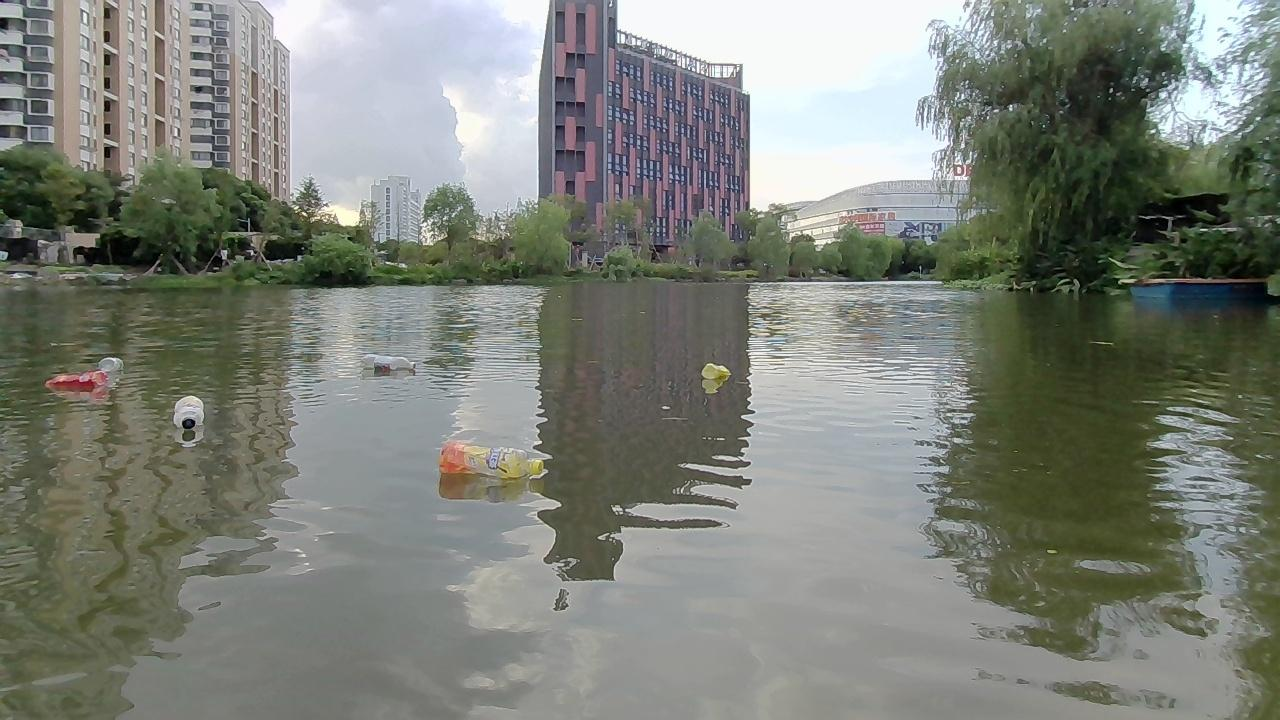bottle: (435, 436, 554, 473), (352, 350, 419, 382), (171, 395, 207, 440), (44, 372, 107, 392), (96, 352, 126, 376), (700, 360, 727, 383)
